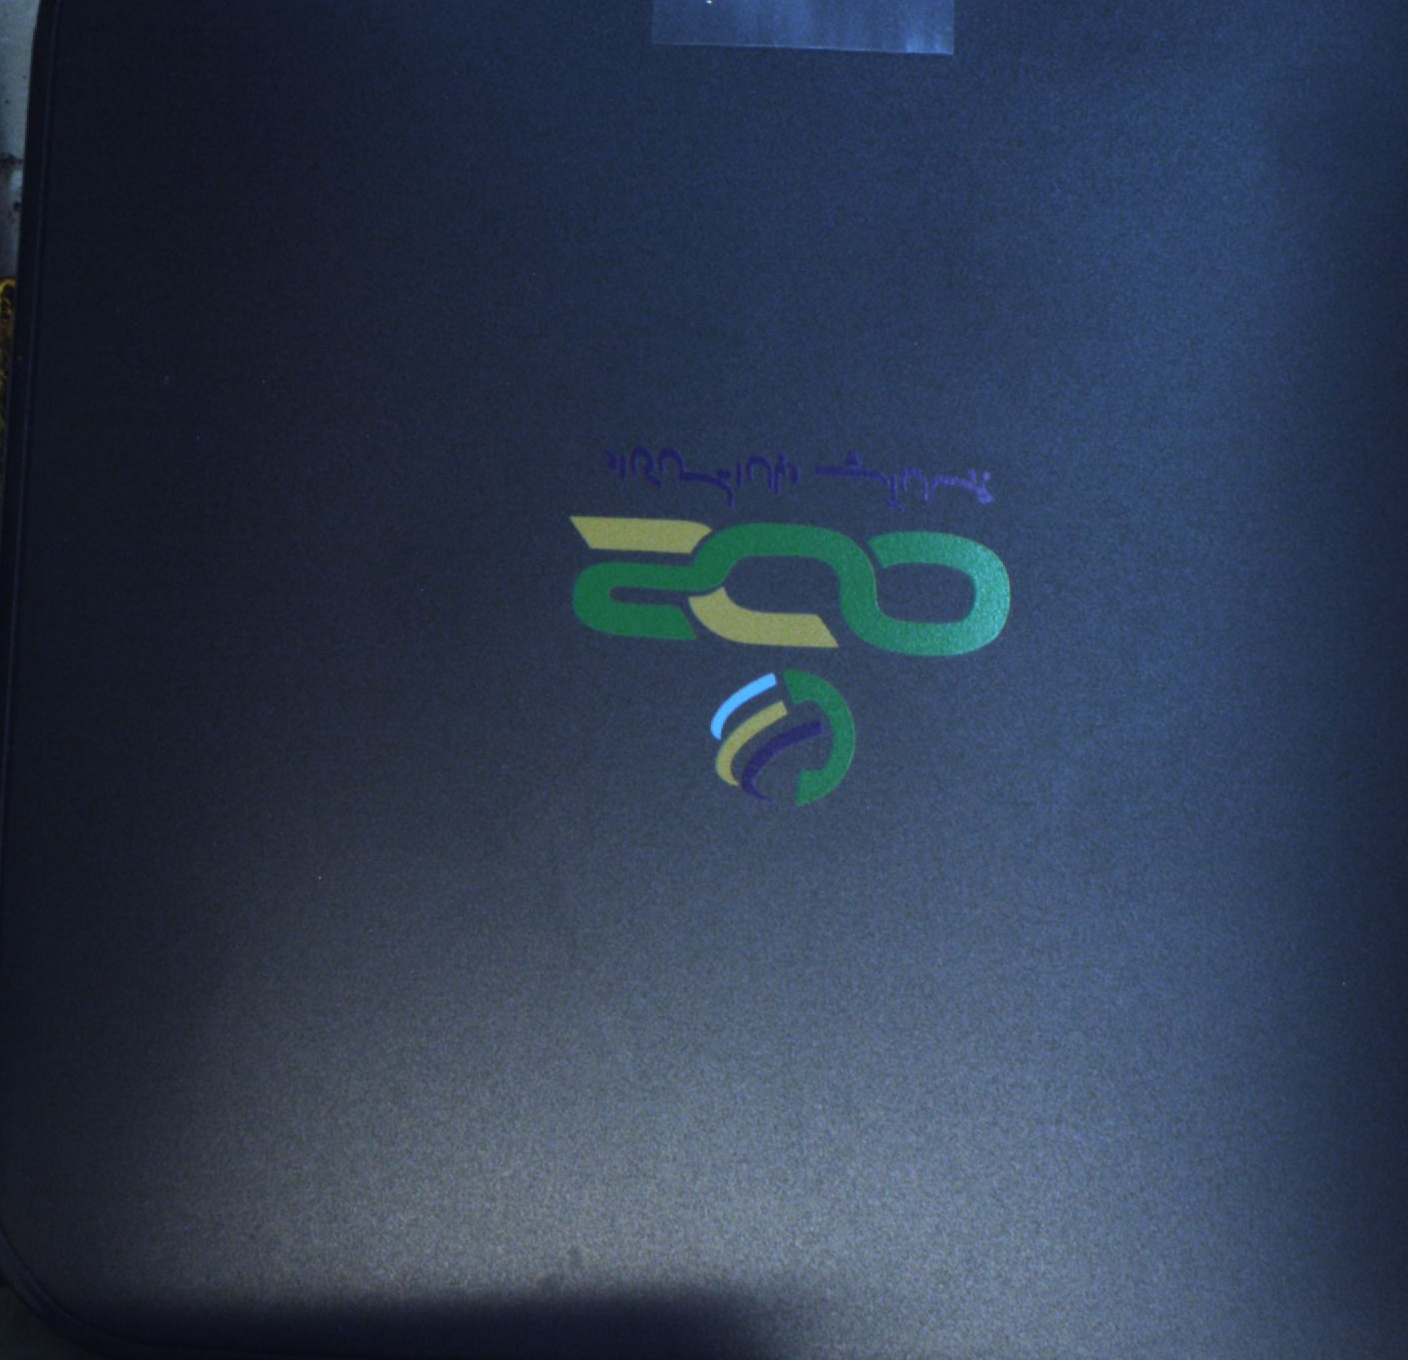BZ_HG680PSCOFirbeHome: (503, 414, 1031, 841)
